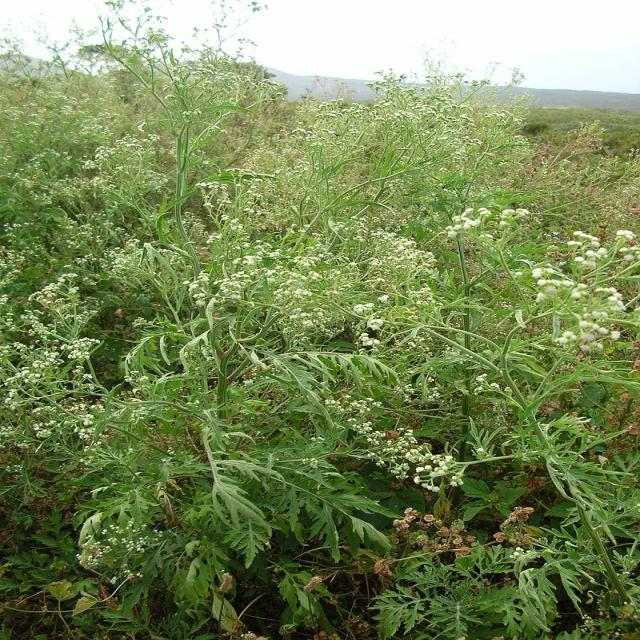Poisonous-Parthenium: (98, 184, 640, 640)
